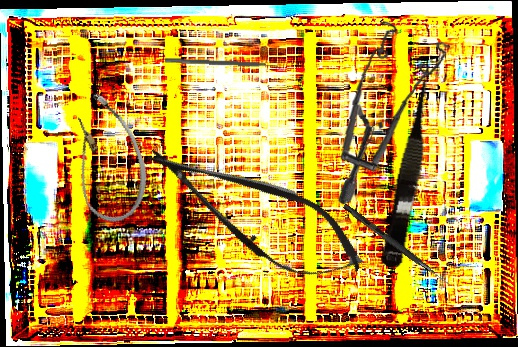Cannula: (51, 86, 161, 230)
Hook Surgical: (341, 203, 454, 288)
Micro Scissor: (131, 120, 377, 304), (379, 67, 443, 272)
Spatula Surgical: (164, 57, 283, 73)
Speculum: (325, 16, 461, 205)
